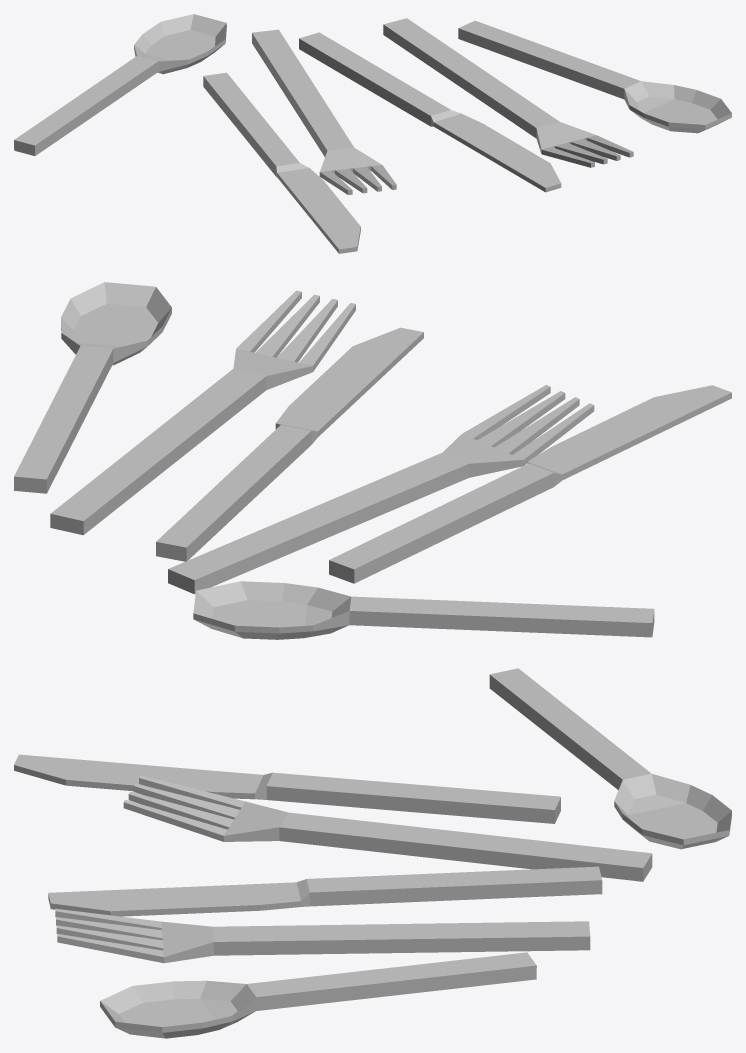
The model's file is cutlery.fbx.
3 renders of one model, top to bottom at view 1: azimuth 30°, elevation 25°; view 2: azimuth 150°, elevation 25°; view 3: azimuth 270°, elevation 25°, orthographic. The views are drawn at different scales.
Parts seen in each view (by area): view 1: cutlery1_spoon1; view 2: cutlery1_spoon1; view 3: cutlery1_spoon1.
Boxes of the visible parts, x1,y1,x2,y2 form: cutlery1_spoon1: (14,14,731,253); cutlery1_spoon1: (14,282,731,639); cutlery1_spoon1: (14,668,731,1038).
Bounding box in the file's own units: 1.02 × 0.0416 × 0.8585.
1 material, 1 textured.
